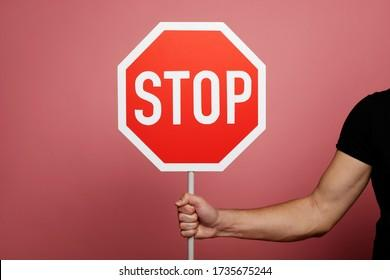Stop: (104, 20, 280, 181)
